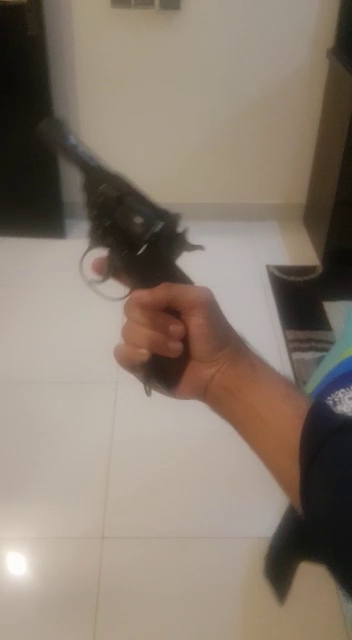handgun: (23, 89, 265, 439)
